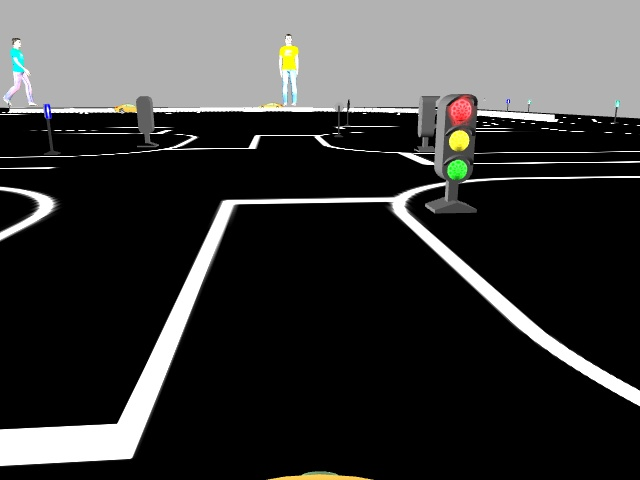TrafficLight: (433, 93, 477, 180)
